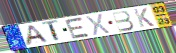A: (25, 24, 51, 46)
B: (110, 10, 136, 33)
E: (64, 16, 92, 40)
K: (132, 7, 156, 28)
T: (40, 19, 62, 43)
X: (85, 13, 112, 37)
